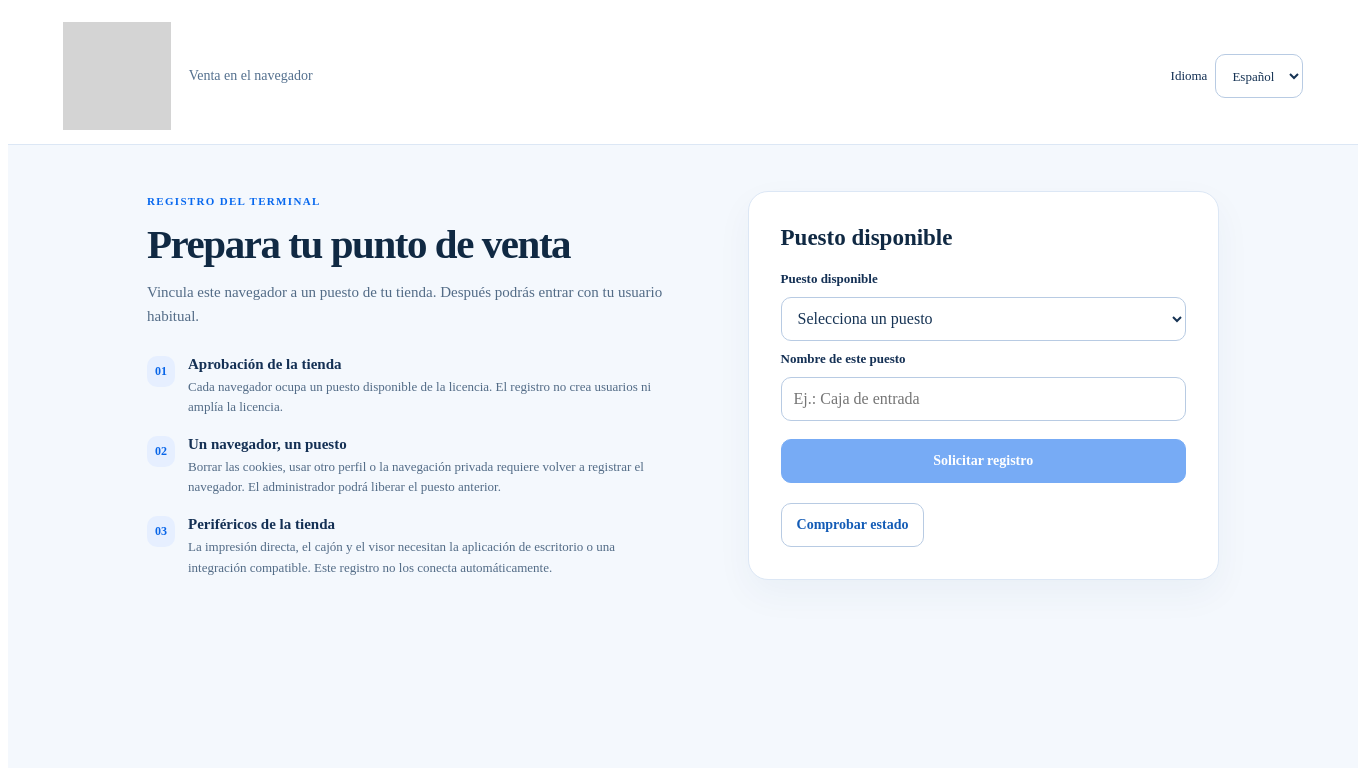
browser terminal registration › explains disabled web access without displaying server internals
The width and height of the screenshot is (1366, 768).
Step 1. Click the button "Comprobar estado" → (852, 525), box top-left (780, 503), bottom-right (924, 547)
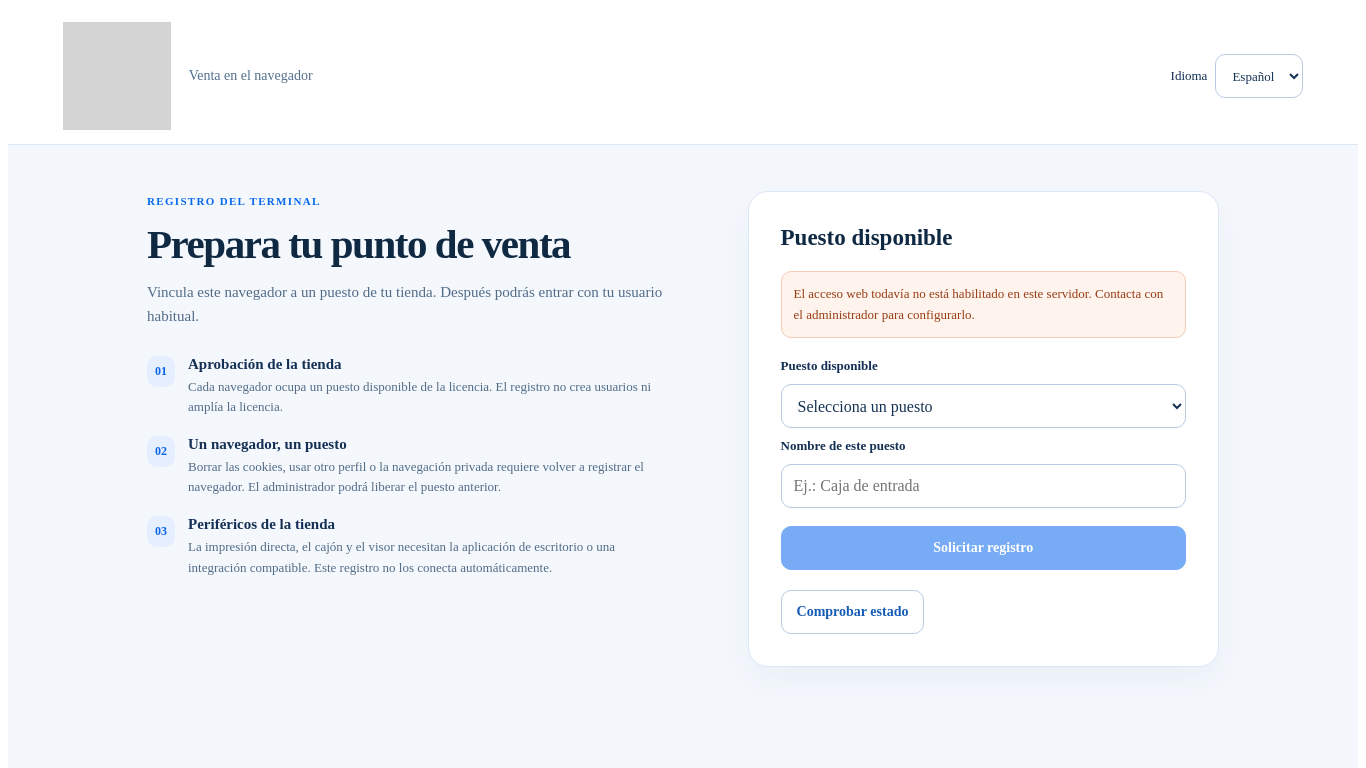
Result: the message shows "todavía no está habilitado" at top-left (794, 286), bottom-right (1163, 322)
